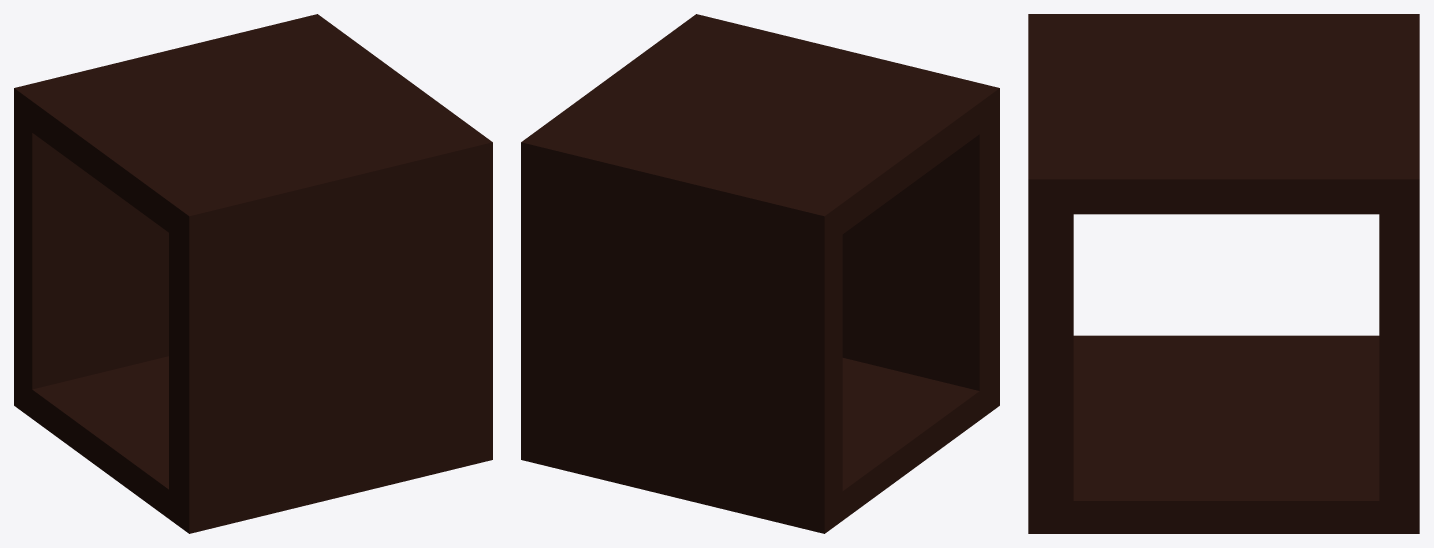
File: RAHMEN.fbx
3 views of the same model, side by side, from view 1: azimuth 30°, elevation 25°; view 2: azimuth 150°, elevation 25°; view 3: azimuth 270°, elevation 25° (orthographic). The views are drawn at different scales.
Parts seen in each view (by area): view 1: Cube; view 2: Cube; view 3: Cube.
Boxes of the visible parts, x1=… form: Cube: x1=14, y1=14, x2=492, y2=533; Cube: x1=521, y1=14, x2=999, y2=533; Cube: x1=1028, y1=14, x2=1419, y2=533.
Size of the model in its own units: 200 by 200 by 200.
